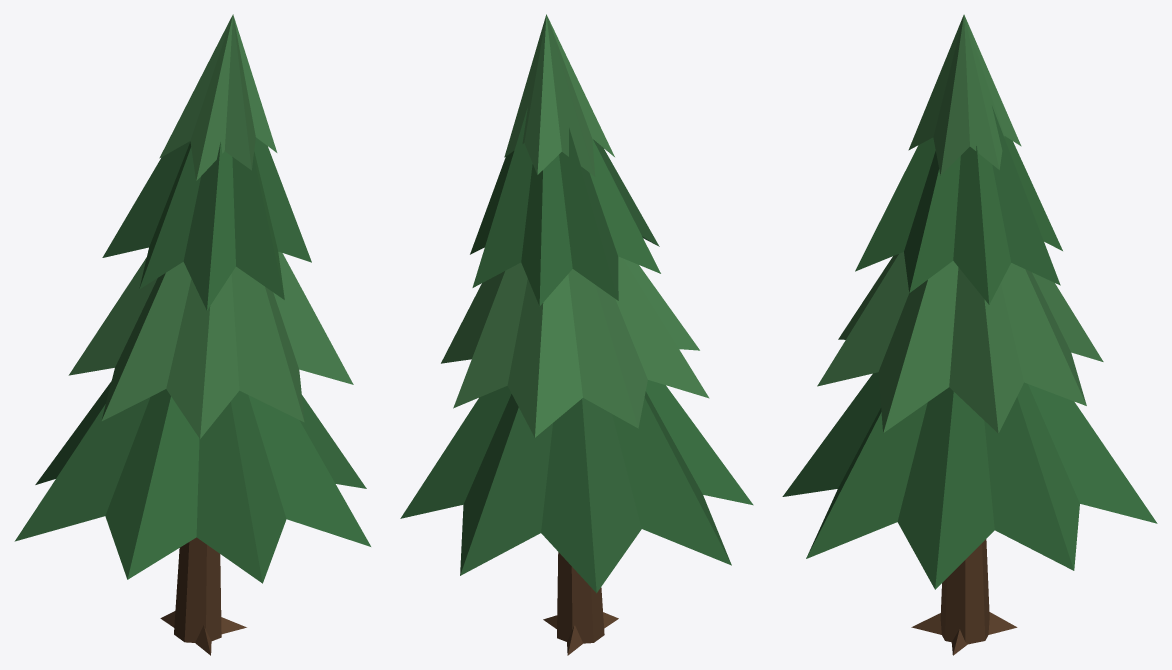
The model's file is pine_c.glb.
3 views of the same model, side by side, from view 1: azimuth 30°, elevation 25°; view 2: azimuth 150°, elevation 25°; view 3: azimuth 270°, elevation 25° (orthographic). The views are drawn at different scales.
Parts seen in each view (by area): view 1: pine_c; view 2: pine_c; view 3: pine_c.
Boxes of the visible parts, x1=… form: pine_c: x1=14, y1=14, x2=370, y2=655; pine_c: x1=400, y1=14, x2=753, y2=655; pine_c: x1=782, y1=14, x2=1157, y2=655.
Size of the model in its own units: 3.31 by 6 by 3.2.
Materials: 1 (1 with a texture image).
